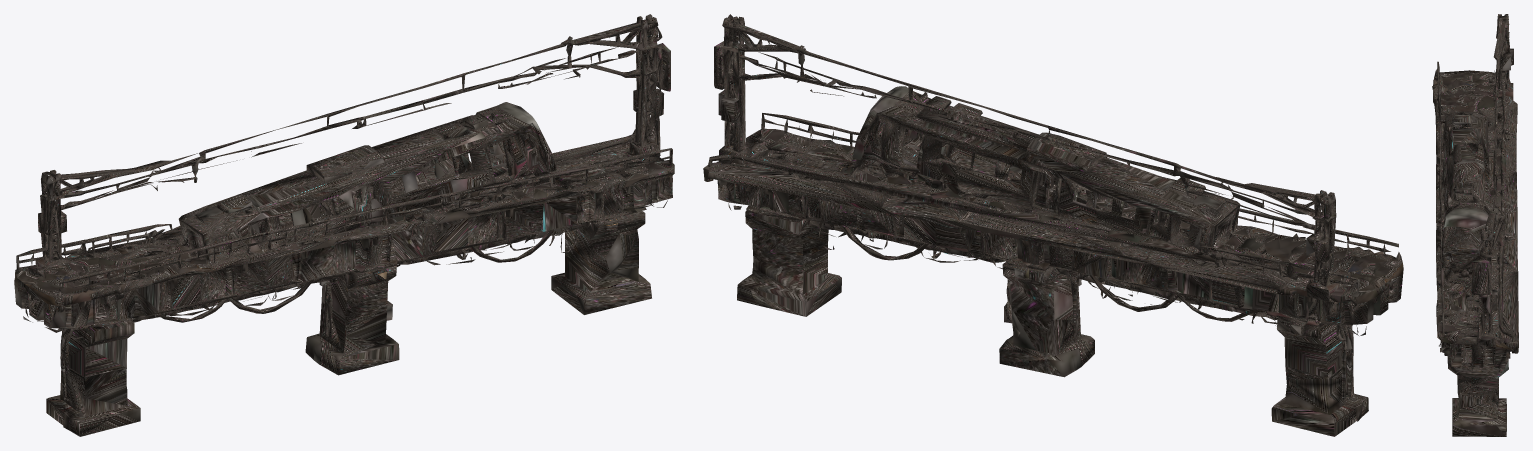
Rendered from rail-overpass.glb.
3 renders of one model, left to right at view 1: azimuth 30°, elevation 25°; view 2: azimuth 150°, elevation 25°; view 3: azimuth 270°, elevation 25°, orthographic. The views are drawn at different scales.
Parts seen in each view (by area): view 1: output_unwrapped; view 2: output_unwrapped; view 3: output_unwrapped.
Part boxes in pixels (x1,y1,x2,y2): output_unwrapped: [14, 14, 674, 436]; output_unwrapped: [703, 14, 1403, 436]; output_unwrapped: [1432, 14, 1518, 436].
Size of the model in its own units: 1.9 by 0.7361 by 0.2733.
1 material, 1 textured.
